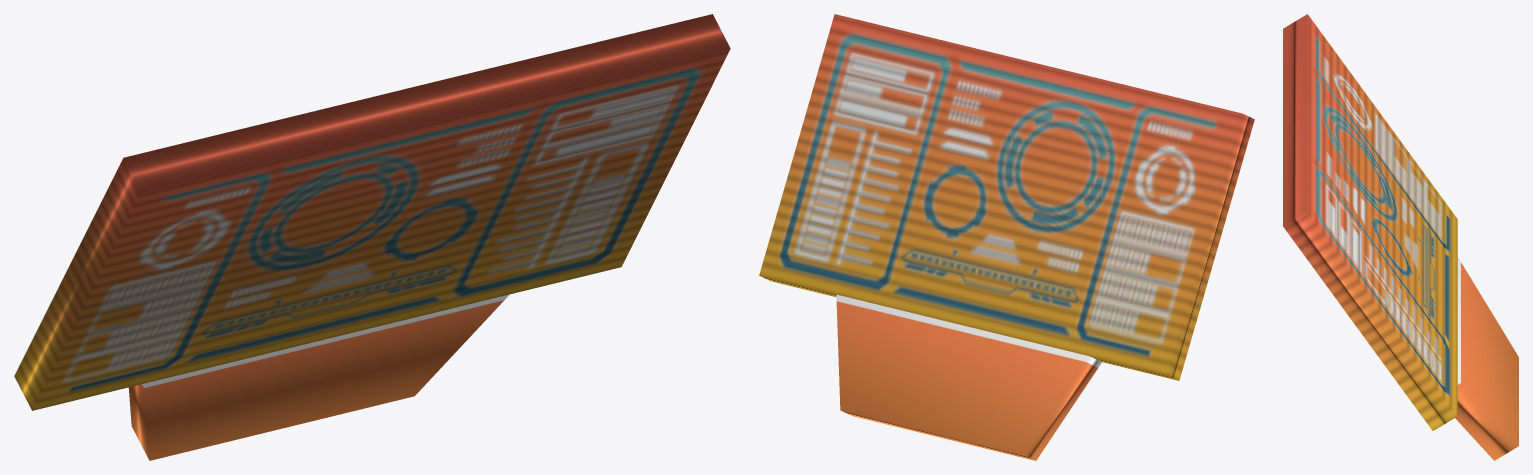
Rendered from Armchair_014_Part_04.fbx.
The picture shows the model from 3 angles, left to right: view 1: azimuth 30°, elevation 25°; view 2: azimuth 150°, elevation 25°; view 3: azimuth 270°, elevation 25°; orthographic projection. The views are drawn at different scales.
Visible parts, largest first — view 1: Armchair_014_Part_04; view 2: Armchair_014_Part_04; view 3: Armchair_014_Part_04.
Boxes of the visible parts, x1,y1,x2,y2 form: Armchair_014_Part_04: [14, 14, 730, 460]; Armchair_014_Part_04: [759, 14, 1254, 460]; Armchair_014_Part_04: [1283, 14, 1518, 460].
Bounding box in the file's own units: 24.94 × 12.59 × 17.88.
